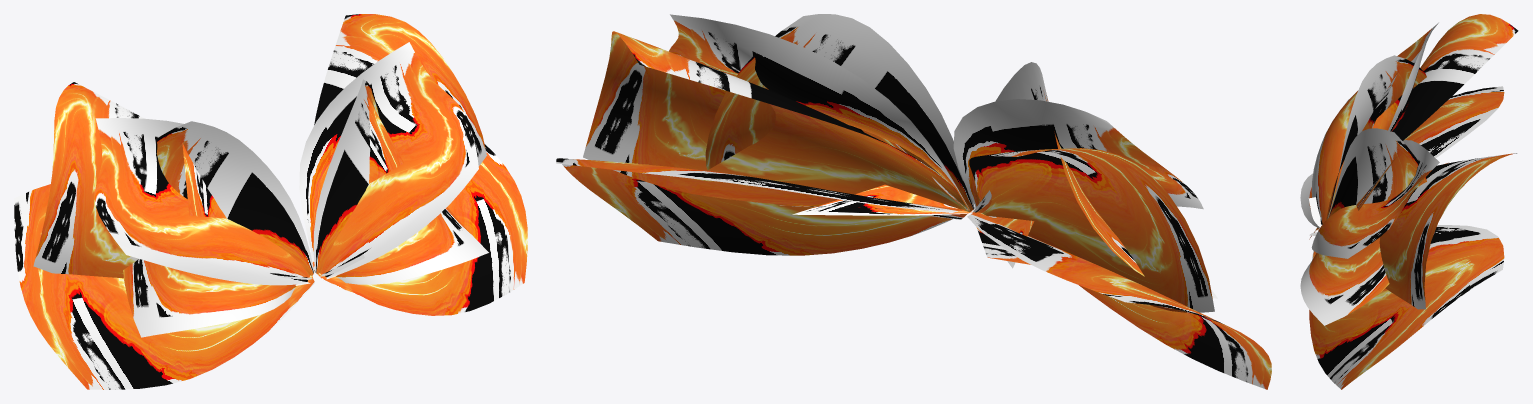
Rendered from fx_wing_a.FBX.
3 views of the same model, side by side, from view 1: azimuth 30°, elevation 25°; view 2: azimuth 150°, elevation 25°; view 3: azimuth 270°, elevation 25° (orthographic). The views are drawn at different scales.
Parts seen in each view (by area): view 1: Plane020, Plane19; view 2: Plane19, Plane020; view 3: Plane19, Plane020.
Part boxes in pixels (x1,y1,x2,y2): Plane020: [14, 82, 314, 389]; Plane19: [299, 14, 527, 315]; Plane19: [556, 14, 974, 255]; Plane020: [953, 62, 1271, 389]; Plane19: [1300, 128, 1516, 389]; Plane020: [1300, 14, 1518, 239].
Bounding box in the file's own units: 12112 × 5292 × 5064.
